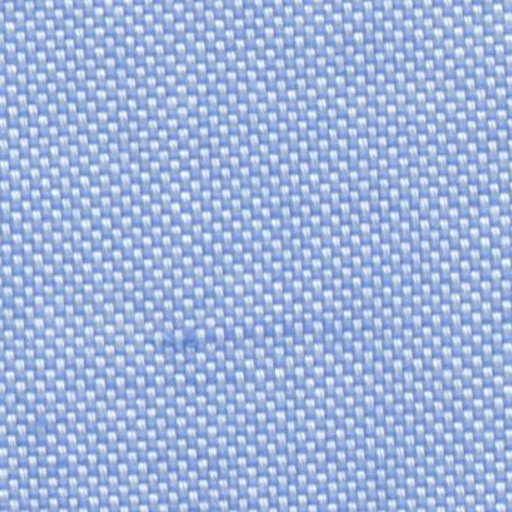DaiSha: (137, 310, 352, 362)
